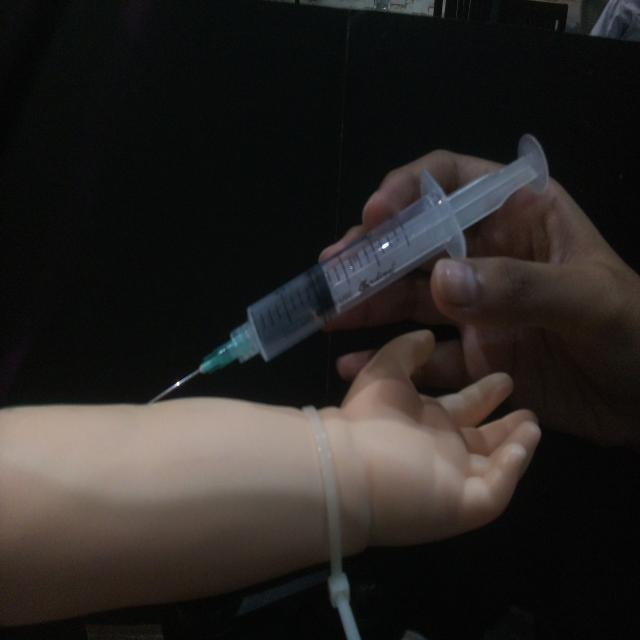20deg: (143, 129, 552, 406)
